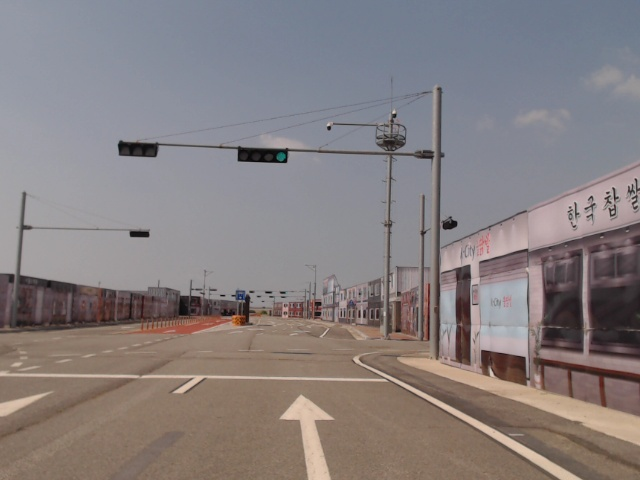straight_green_4: (239, 148, 287, 163)
